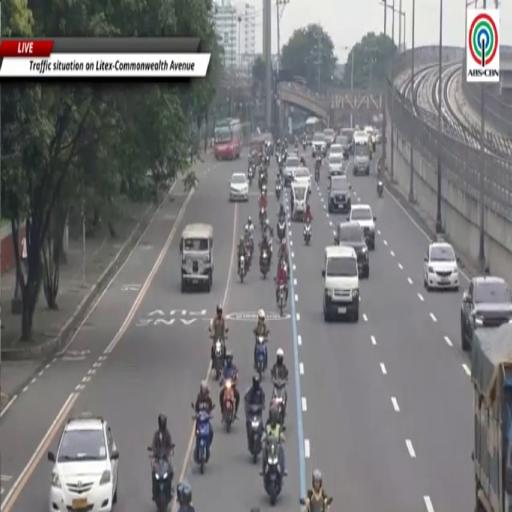bus: (214, 119, 242, 159), (305, 117, 325, 145)
car: (48, 413, 118, 511), (461, 276, 511, 350), (322, 246, 359, 322), (334, 222, 369, 278), (424, 242, 459, 291), (349, 204, 376, 250), (328, 175, 351, 213), (291, 183, 310, 221), (354, 136, 370, 175), (230, 173, 249, 201), (283, 155, 299, 186), (337, 128, 354, 153), (312, 132, 328, 158), (294, 167, 311, 189), (328, 154, 345, 175), (337, 136, 350, 158), (324, 128, 335, 149), (328, 143, 342, 159), (376, 132, 381, 143)
jeepney: (180, 223, 213, 292), (249, 136, 264, 165)
motorcycle: (148, 447, 173, 511), (264, 438, 282, 505), (194, 411, 211, 474), (248, 406, 263, 463), (271, 379, 287, 426), (223, 379, 235, 433), (254, 336, 267, 377), (213, 339, 225, 379), (306, 498, 332, 511), (260, 249, 270, 278), (239, 254, 247, 282), (278, 284, 285, 316), (246, 240, 253, 271), (304, 222, 312, 245), (277, 221, 285, 242), (259, 207, 266, 230), (259, 173, 266, 193), (248, 166, 254, 185), (276, 182, 282, 200), (315, 164, 320, 184), (268, 238, 272, 261), (378, 181, 383, 197), (276, 153, 281, 166), (303, 140, 306, 150)
truck: (471, 324, 511, 511)
